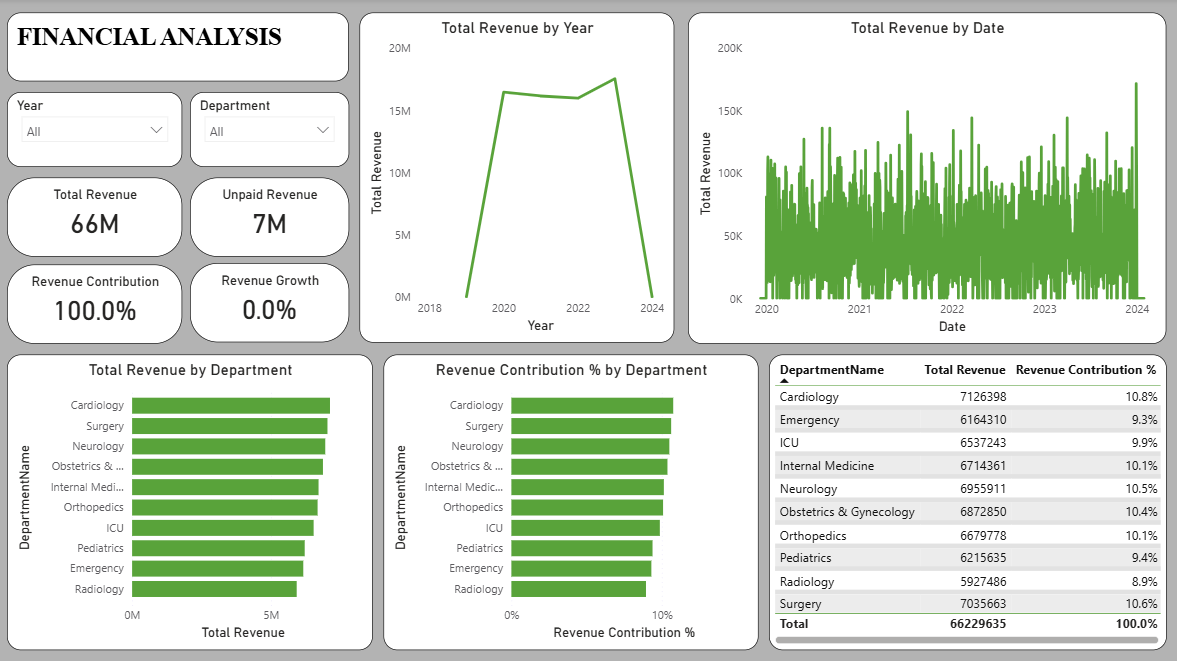

The dashboard page shown, as its layout file describes it:
{"tool":"powerbi","page":{"name":"Financial Analysis","canvas":[1280,720],"ordinal":1},"visuals":[{"type":"lineChart","fields":{"Category":["DateTable.Year"],"Y":["Measure.Total Revenue"]},"box":[392,14.6,341.6,357.8],"z":0},{"type":"clusteredBarChart","title":"Total Revenue by Department","fields":{"Category":["departments.DepartmentName"],"Y":["Measure.Total Revenue"]},"box":[9.8,385.5,396.9,320.4],"z":1000},{"type":"clusteredBarChart","title":"Revenue Contribution % by Department","fields":{"Category":["departments.DepartmentName"],"Y":["DateTable.Revenue Contribution %"]},"box":[418,385.5,406.6,320.4],"z":2000},{"type":"tableEx","fields":{"Values":["departments.DepartmentName","Measure.Total Revenue","DateTable.Revenue Contribution %"]},"box":[836,385.5,431,320.4],"z":3000},{"type":"lineChart","fields":{"Category":["DateTable.Date"],"Y":["Measure.Total Revenue"]},"box":[748.2,14.6,518.9,359.5],"z":4000},{"type":"card","title":"Revenue Growth","fields":{"Values":["Measure.Revenue Growth %"]},"box":[208.2,286.3,172.4,86.2],"z":5000},{"type":"card","title":"Revenue Contribution","fields":{"Values":["Measure.Revenue Contribution %"]},"box":[9.8,287.9,190.3,86.2],"z":6000},{"type":"card","title":"Total Revenue","fields":{"Values":["Measure.Total Revenue"]},"box":[9.8,193.6,190.3,86.2],"z":7000},{"type":"card","title":"Unpaid Revenue","fields":{"Values":["Measure.Unpaid Revenue"]},"box":[208.2,193.6,172.4,86.2],"z":8000},{"type":"slicer","title":"Year","fields":{"Values":["DateTable.Year","DateTable.YearMonth"]},"box":[9.8,100.8,190.3,81.3],"z":9000},{"type":"slicer","title":"Department","fields":{"Values":["departments.DepartmentName"]},"box":[208.2,100.8,172.4,81.3],"z":10000},{"type":"textbox","box":[9.8,14.6,370.9,74.8],"z":11000}]}

Visuals, with their boxes in screenshot pixels (x1, y1, x2, y2), scaled from the page's 1280x720 canvas onto the 1177x661 screenshot:
lineChart - DateTable.Year x Measure.Total Revenue: [left=360, top=13, right=675, bottom=342]
"Total Revenue by Department" clusteredBarChart: [left=9, top=354, right=374, bottom=648]
"Revenue Contribution % by Department" clusteredBarChart: [left=384, top=354, right=758, bottom=648]
tableEx - departments.DepartmentName x Measure.Total Revenue: [left=769, top=354, right=1165, bottom=648]
lineChart - DateTable.Date x Measure.Total Revenue: [left=688, top=13, right=1165, bottom=343]
"Revenue Growth" card: [left=191, top=263, right=350, bottom=342]
"Revenue Contribution" card: [left=9, top=264, right=184, bottom=343]
"Total Revenue" card: [left=9, top=178, right=184, bottom=257]
"Unpaid Revenue" card: [left=191, top=178, right=350, bottom=257]
"Year" slicer: [left=9, top=93, right=184, bottom=167]
"Department" slicer: [left=191, top=93, right=350, bottom=167]
textbox: [left=9, top=13, right=350, bottom=82]
